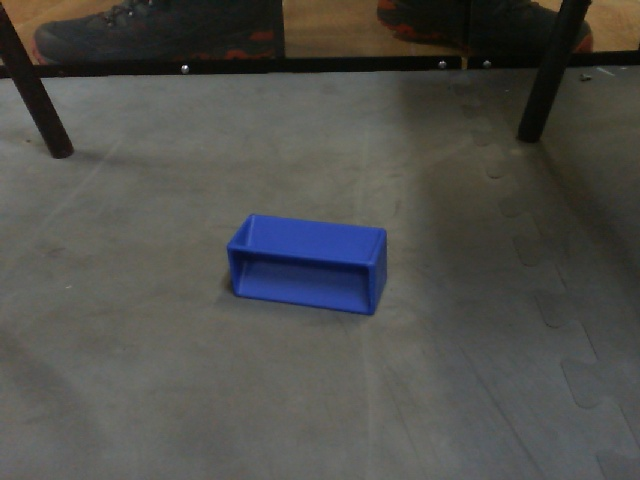BlueSample: (224, 211, 394, 320)
